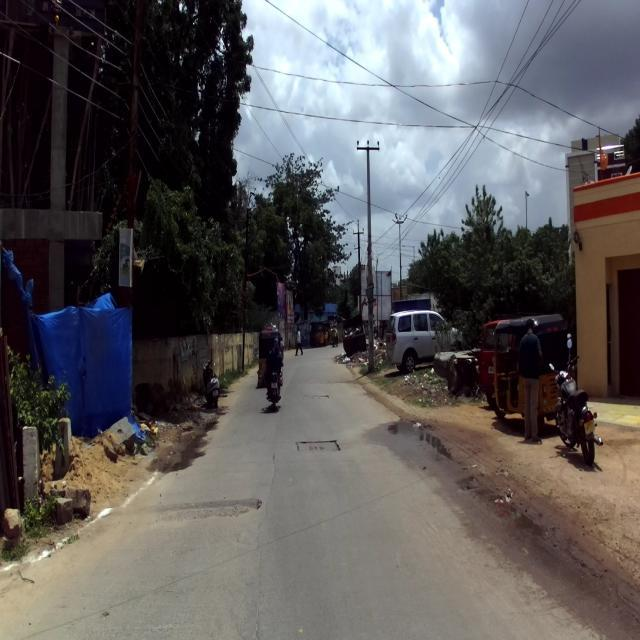pothole: (134, 492, 266, 527), (384, 410, 447, 470)
